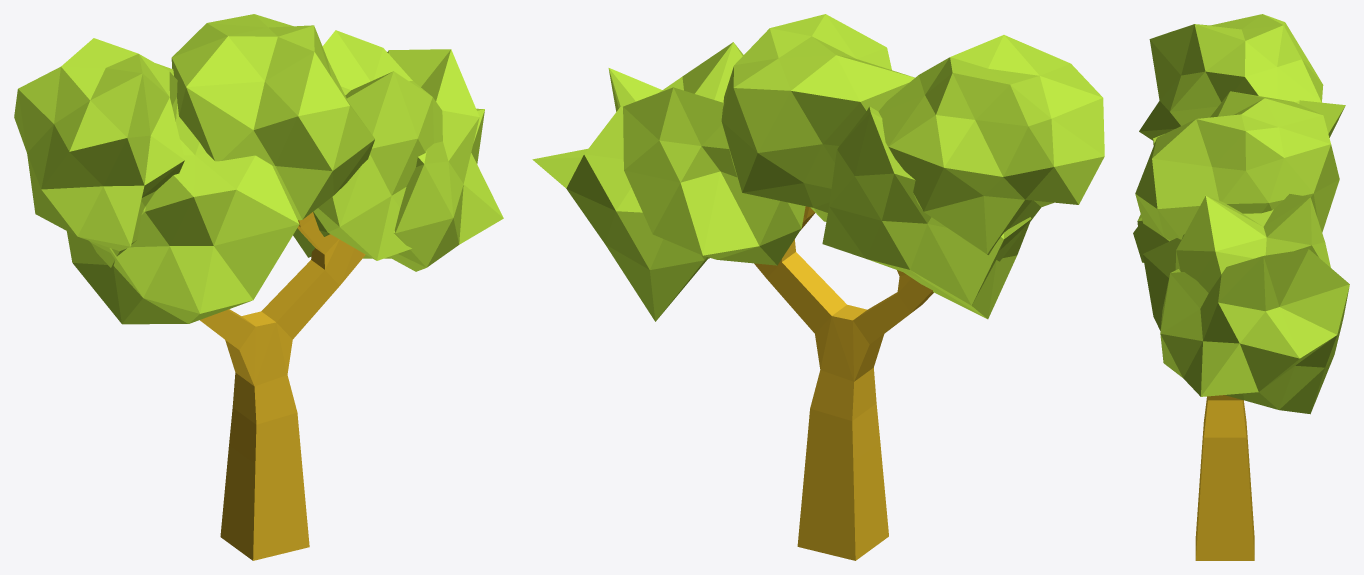
The model's file is tree_1.fbx.
The picture shows the model from 3 angles, left to right: view 1: azimuth 30°, elevation 25°; view 2: azimuth 150°, elevation 25°; view 3: azimuth 270°, elevation 25°; orthographic projection. The views are drawn at different scales.
Visible parts, largest first — view 1: ICO球.004, 平面; view 2: ICO球.004, 平面; view 3: ICO球.004, 平面.
Boxes of the visible parts, <box> form: ICO球.004: <box>14,14,503,324</box>; 平面: <box>200,212,365,560</box>; ICO球.004: <box>532,14,1104,321</box>; 平面: <box>754,206,933,560</box>; ICO球.004: <box>1133,14,1349,414</box>; 平面: <box>1195,395,1254,560</box>.
Bounding box in the file's own units: 369 × 362 × 154.
